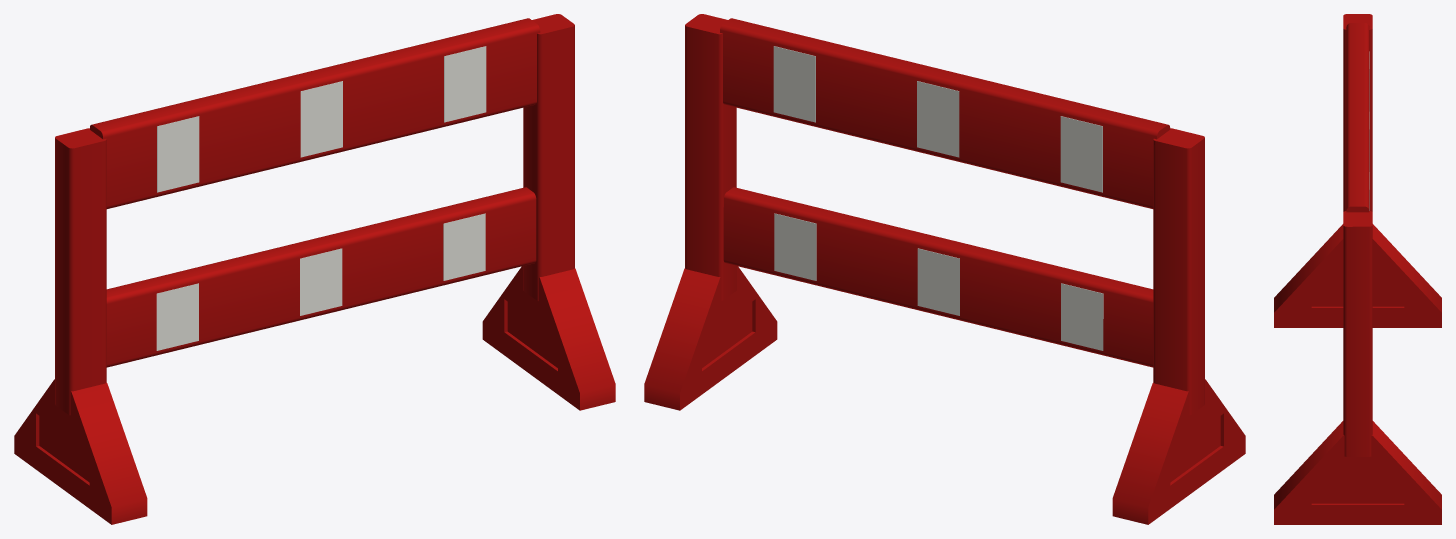
The model's file is traffic-barrier.glb.
3 renders of one model, left to right at view 1: azimuth 30°, elevation 25°; view 2: azimuth 150°, elevation 25°; view 3: azimuth 270°, elevation 25°, orthographic. The views are drawn at different scales.
Visible parts, largest first — view 1: rail_upper, rail_lower, post_left, foot_right, foot_left, post_right, Geom.009, Geom.010, Geom.011, Geom.005, Geom.003, Geom.004; view 2: rail_upper, rail_lower, post_left, foot_right, foot_left, post_right, Geom.006, Geom.007, Geom.008, Geom, Geom.001, Geom.002; view 3: foot_right, foot_left, post_right, rail_upper, post_left.
Boxes of the visible parts, box(x1,y1,x2,y2) form: rail_upper: box(90, 18, 540, 208); rail_lower: box(106, 187, 536, 367); post_left: box(55, 128, 106, 415); foot_right: box(482, 266, 615, 410); foot_left: box(14, 379, 147, 524); post_right: box(523, 14, 574, 300); Geom.009: box(157, 116, 199, 192); Geom.010: box(300, 81, 342, 157); Geom.011: box(444, 46, 486, 122); Geom.005: box(443, 213, 485, 280); Geom.003: box(156, 283, 198, 350); Geom.004: box(300, 248, 342, 315); rail_upper: box(720, 18, 1170, 208); rail_lower: box(723, 187, 1153, 367); post_left: box(1153, 128, 1204, 415); foot_right: box(644, 266, 777, 410); foot_left: box(1112, 379, 1245, 524); post_right: box(685, 14, 736, 300); Geom.006: box(1060, 116, 1102, 192); Geom.007: box(917, 81, 959, 157); Geom.008: box(773, 46, 815, 122); Geom: box(1061, 283, 1103, 350); Geom.001: box(917, 248, 959, 315); Geom.002: box(774, 213, 816, 280); foot_right: box(1274, 421, 1441, 524); foot_left: box(1274, 224, 1441, 327); post_right: box(1343, 211, 1372, 456); rail_upper: box(1346, 23, 1369, 212); post_left: box(1343, 14, 1372, 211).
Bounding box in the file's own units: 1.2 × 0.8 × 0.4.
